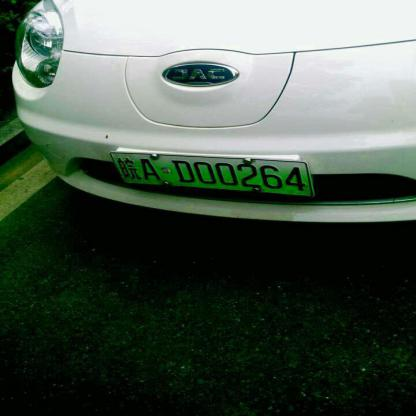lp: (112, 151, 313, 195)
